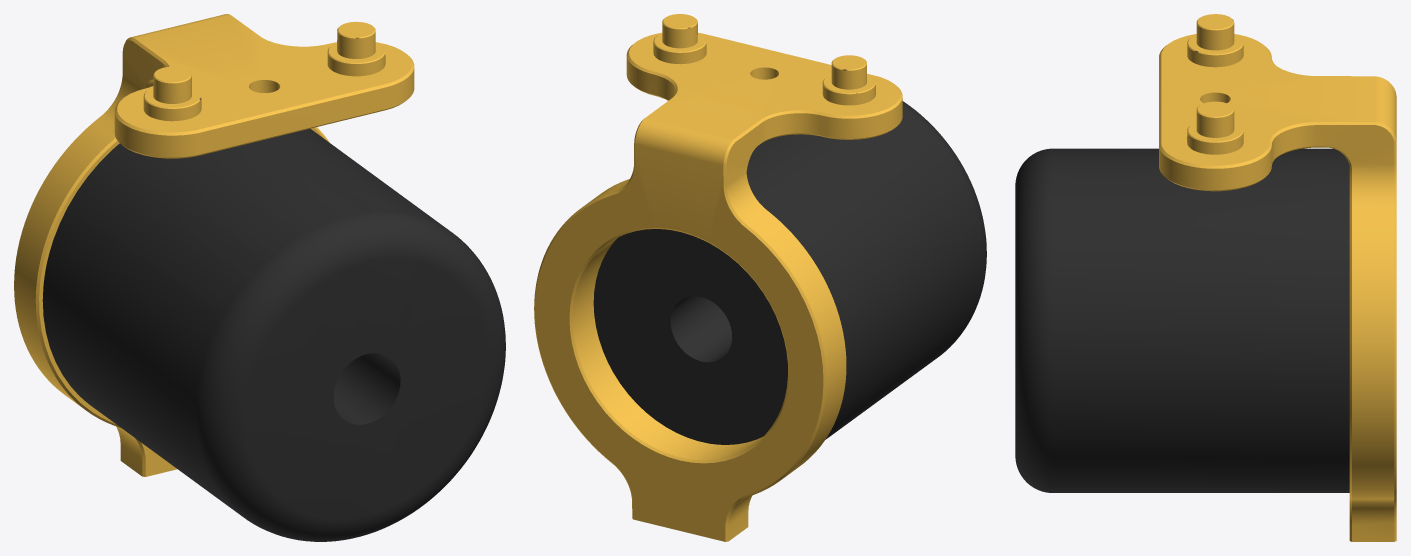
Rendered from armr6.dae.
3 renders of one model, left to right at view 1: azimuth 30°, elevation 25°; view 2: azimuth 150°, elevation 25°; view 3: azimuth 270°, elevation 25°, orthographic. The views are drawn at different scales.
Visible parts, largest first — view 1: armr6; view 2: armr6; view 3: armr6.
Part boxes in pixels (x1,y1,x2,y2): armr6: (14,14,505,541); armr6: (534,14,986,541); armr6: (1015,14,1396,541).
Size of the model in its own units: 0.076 by 0.081 by 0.1059.
1 material, 1 textured.
